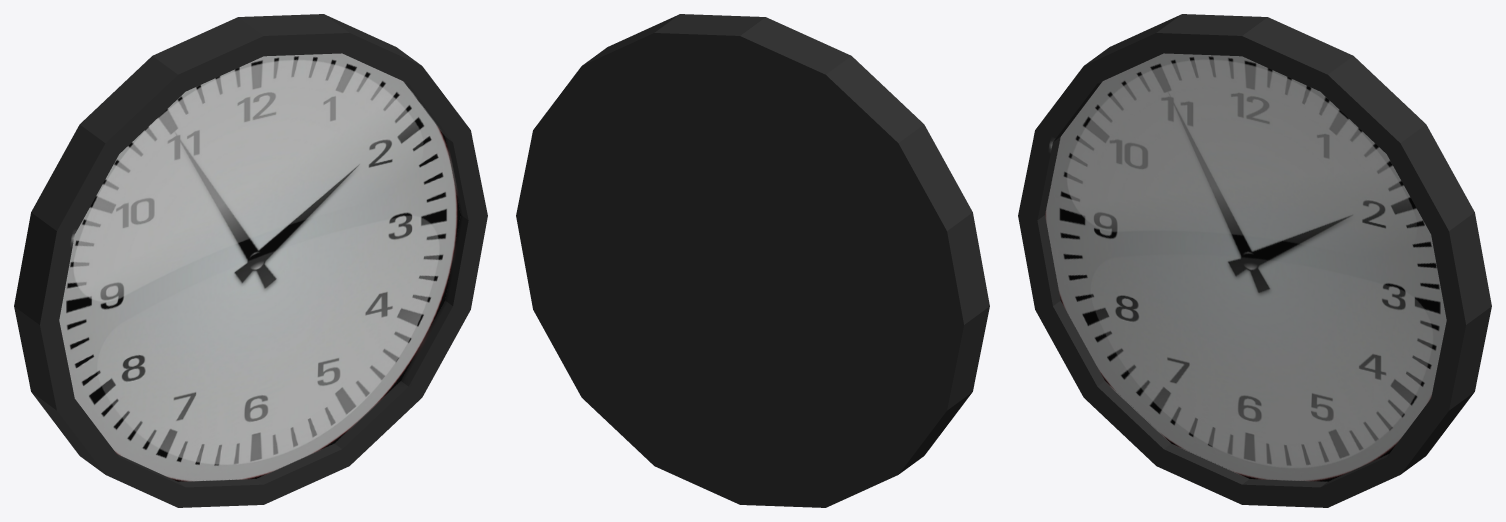
Rendered from Reloj.fbx.
3 views of the same model, side by side, from view 1: azimuth 30°, elevation 25°; view 2: azimuth 150°, elevation 25°; view 3: azimuth 330°, elevation 25° (orthographic).
Visible parts, largest first — view 1: Reloj; view 2: Reloj; view 3: Reloj.
Part boxes in pixels (x1,y1,x2,y2): Reloj: [14, 14, 487, 507]; Reloj: [516, 14, 989, 507]; Reloj: [1018, 14, 1491, 507].
Size of the model in its own units: 56.07 by 56.07 by 5.61.
